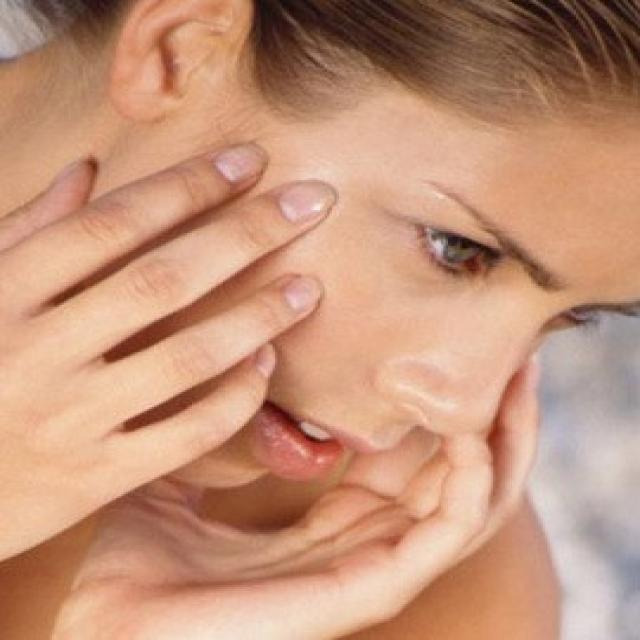oily: (302, 116, 500, 292), (378, 281, 546, 447)
